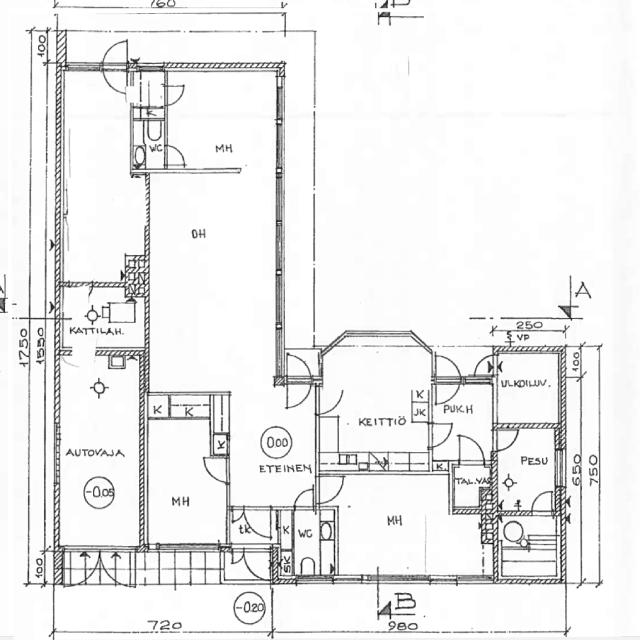door: (146, 414, 227, 547), (452, 434, 492, 512), (284, 351, 314, 410), (432, 352, 463, 406), (240, 544, 274, 582), (241, 504, 275, 540), (100, 38, 128, 79), (455, 432, 486, 466), (316, 471, 347, 505), (316, 383, 346, 415), (201, 454, 231, 484), (427, 420, 455, 449), (102, 66, 128, 94), (492, 427, 520, 452), (530, 487, 554, 514), (163, 143, 188, 167), (292, 486, 316, 509), (163, 83, 186, 106), (472, 353, 494, 377), (228, 504, 247, 525), (229, 544, 247, 566)
window: (270, 170, 287, 228), (552, 447, 568, 488), (273, 76, 287, 122), (66, 60, 102, 75), (296, 574, 334, 588), (455, 575, 493, 587), (429, 575, 459, 588), (138, 62, 164, 72)
zone: (460, 119, 586, 318), (317, 338, 433, 472), (165, 70, 282, 172), (143, 416, 228, 549), (59, 284, 148, 357), (428, 378, 494, 464), (494, 427, 559, 512), (493, 351, 561, 428), (279, 508, 338, 580), (451, 462, 494, 512), (130, 118, 166, 171), (130, 70, 166, 118)
